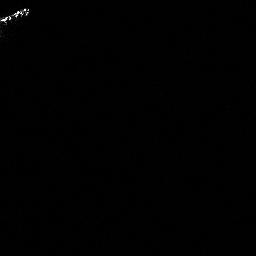ship: (1, 4, 31, 27)
